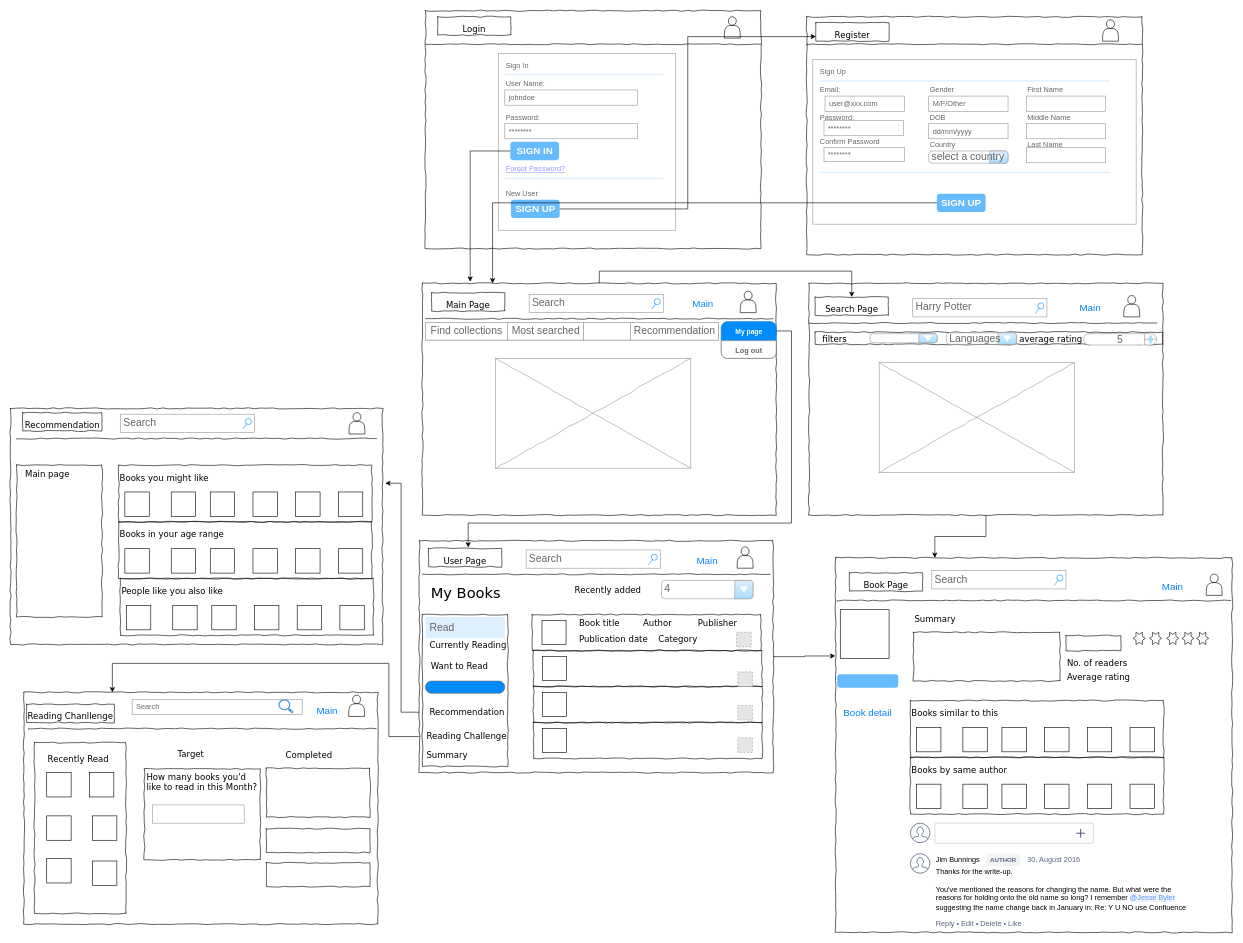
Some shapes in this 1243 by 943 pixel diagram are drawn without their labels. Grey dashed boxes stand in for pictures. The shapes that lost their labels are listed below. From the top down, each one's centre as x and y in pixels, then its label:
At (606,331): "Genres".
At (903,338): "Countries".
At (1093,643): "Rating".
At (465,686): "Add Collection".
At (867,680): "Add to Collection".
At (1014,833): "add your review".
